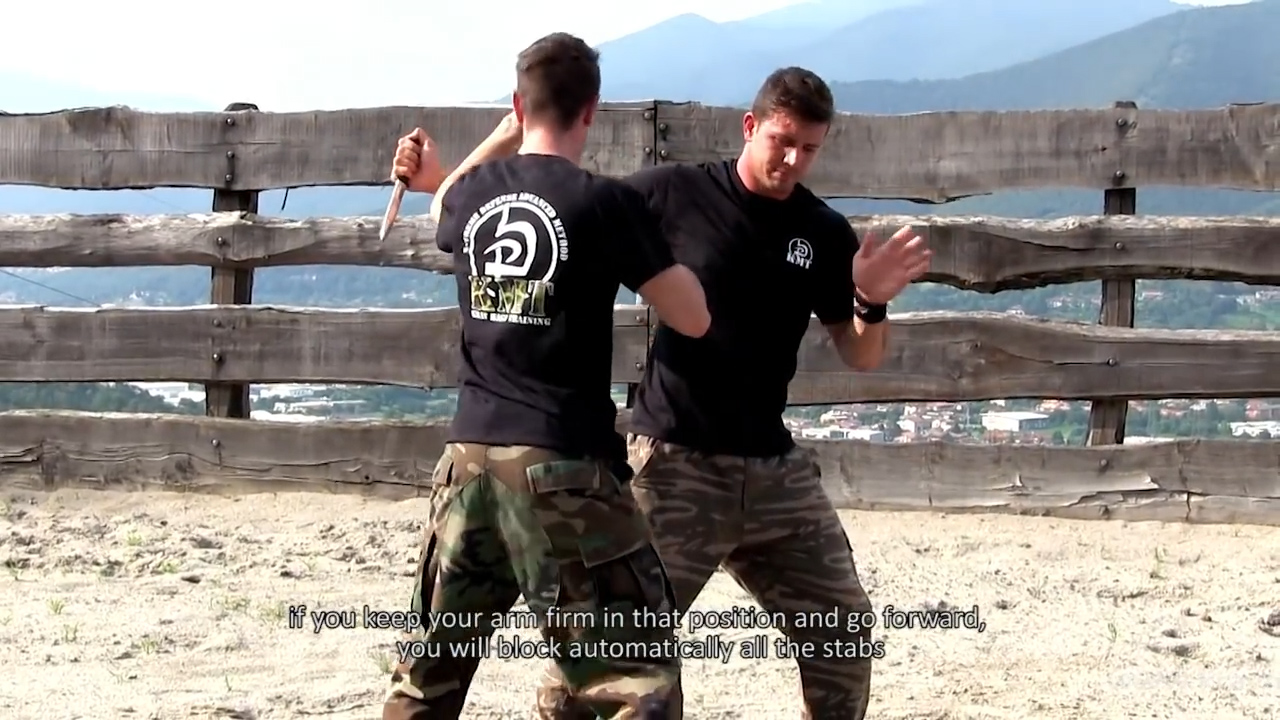knife: (366, 119, 437, 245)
